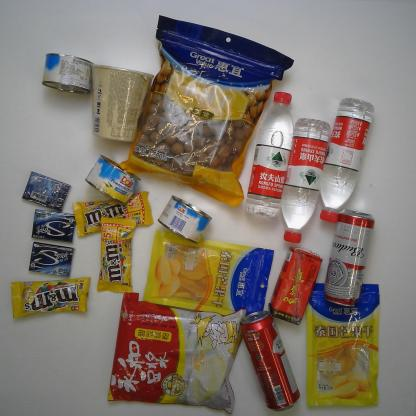Alcohol: (238, 305, 303, 412), (320, 203, 376, 311)
Canned Food: (151, 192, 217, 246), (80, 155, 146, 206), (35, 42, 96, 97)
Chocolate: (69, 191, 157, 240), (9, 275, 92, 321), (94, 213, 139, 297)
Dried Food: (118, 11, 294, 211)
Dried Fruit: (296, 272, 387, 416), (141, 228, 277, 322)
Drink: (314, 90, 378, 226), (242, 87, 302, 220), (277, 107, 331, 246), (265, 235, 322, 328)
Gum: (18, 170, 74, 213), (25, 205, 79, 248), (28, 238, 76, 280)
Instant Drink: (105, 288, 247, 414)
Instant Noodles: (90, 60, 160, 147)
